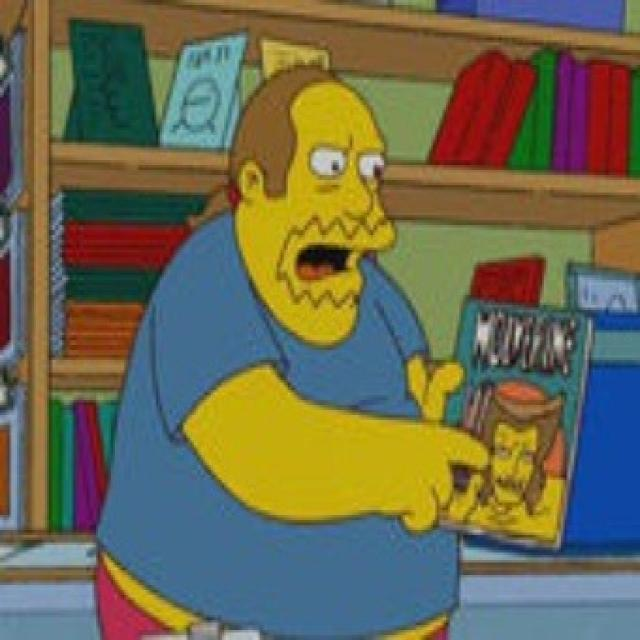Comic Book Guy: (224, 58, 405, 358)
